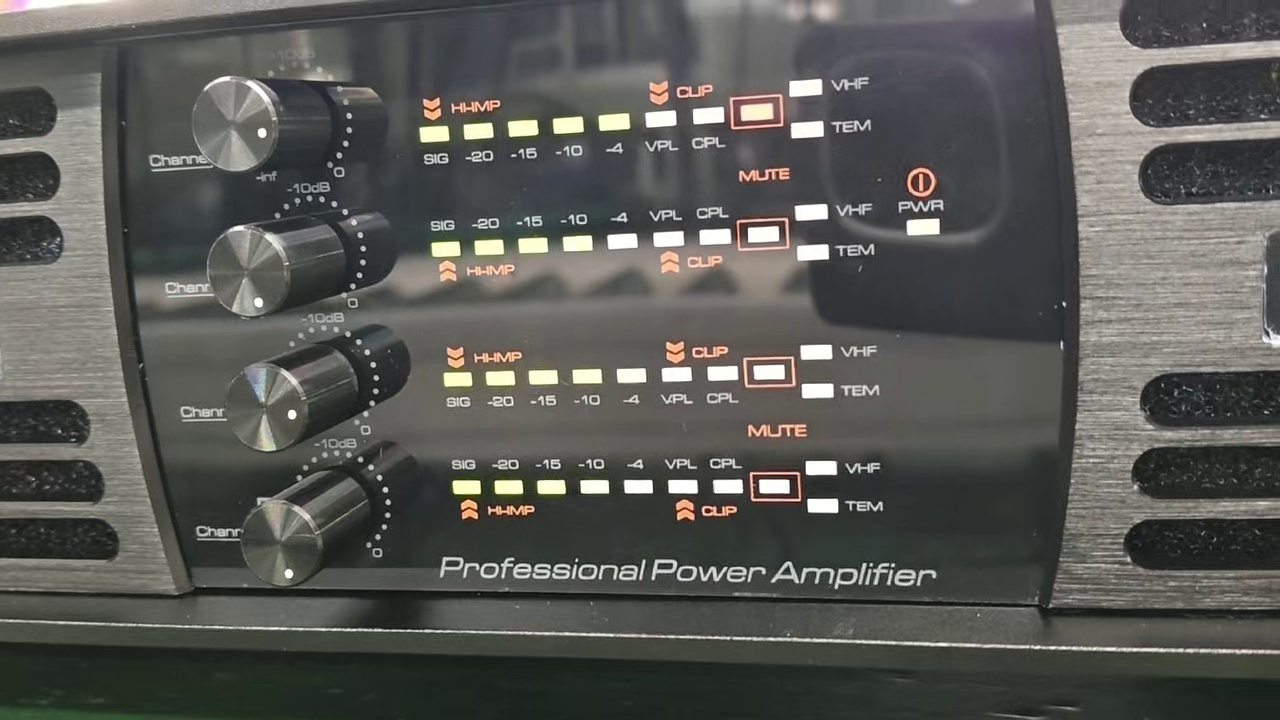FP_CPL: (688, 102, 729, 158), (695, 202, 733, 250), (703, 361, 741, 408), (708, 453, 746, 498)
FP_PWR: (893, 196, 948, 239)
FP_PWR_area: (892, 161, 949, 245)
FP_SIG_area: (414, 68, 879, 169), (423, 193, 881, 287), (443, 448, 883, 531), (438, 337, 888, 410)
FP_VPL: (638, 104, 683, 161), (646, 202, 689, 250), (663, 451, 701, 498), (656, 363, 695, 407)
